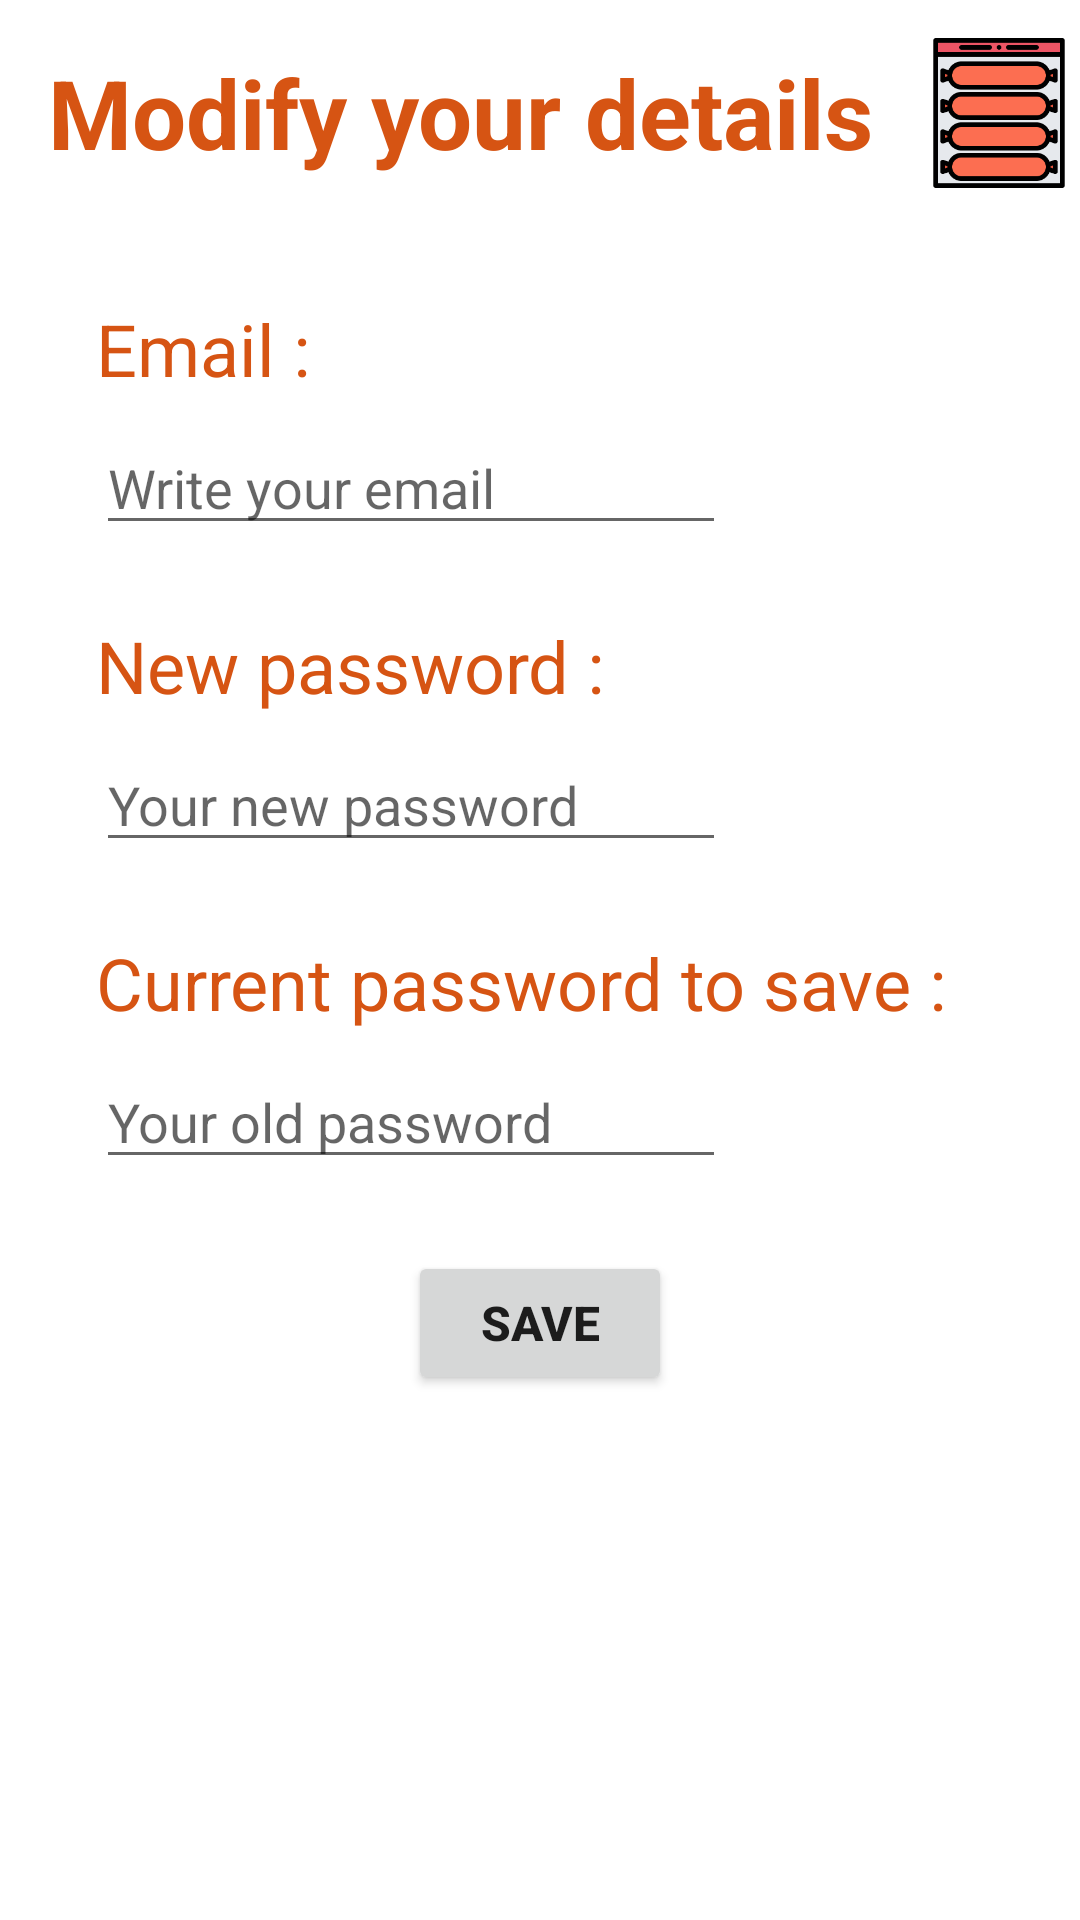

Icons on this 1080w x 1920h Android screen, each with its box as (x1, y1, x2, y2):
sausage web: (933, 38, 1065, 188)
